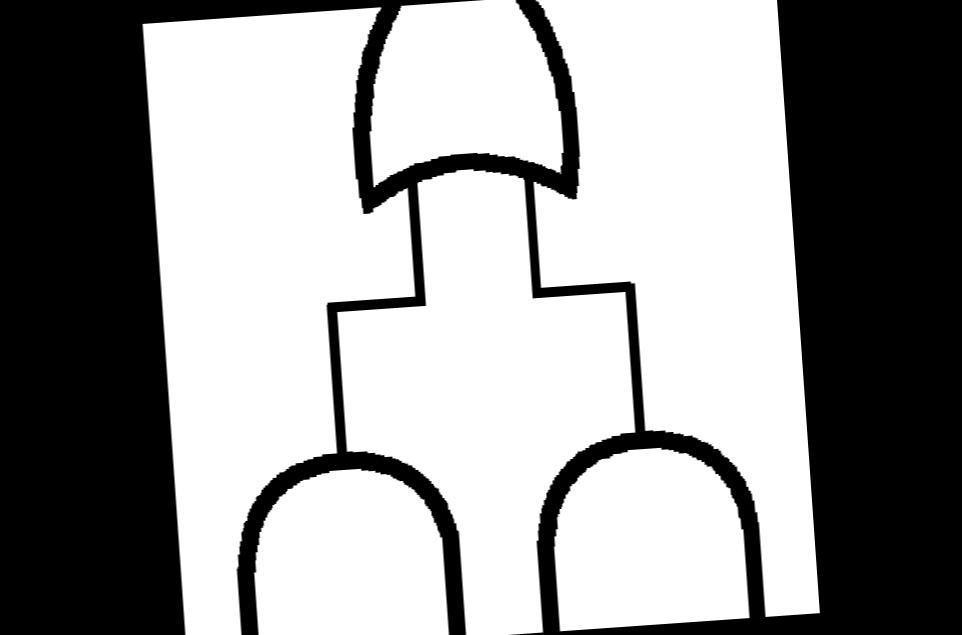and: (516, 404, 772, 632), (214, 427, 476, 635)
nor: (330, 0, 597, 228)
